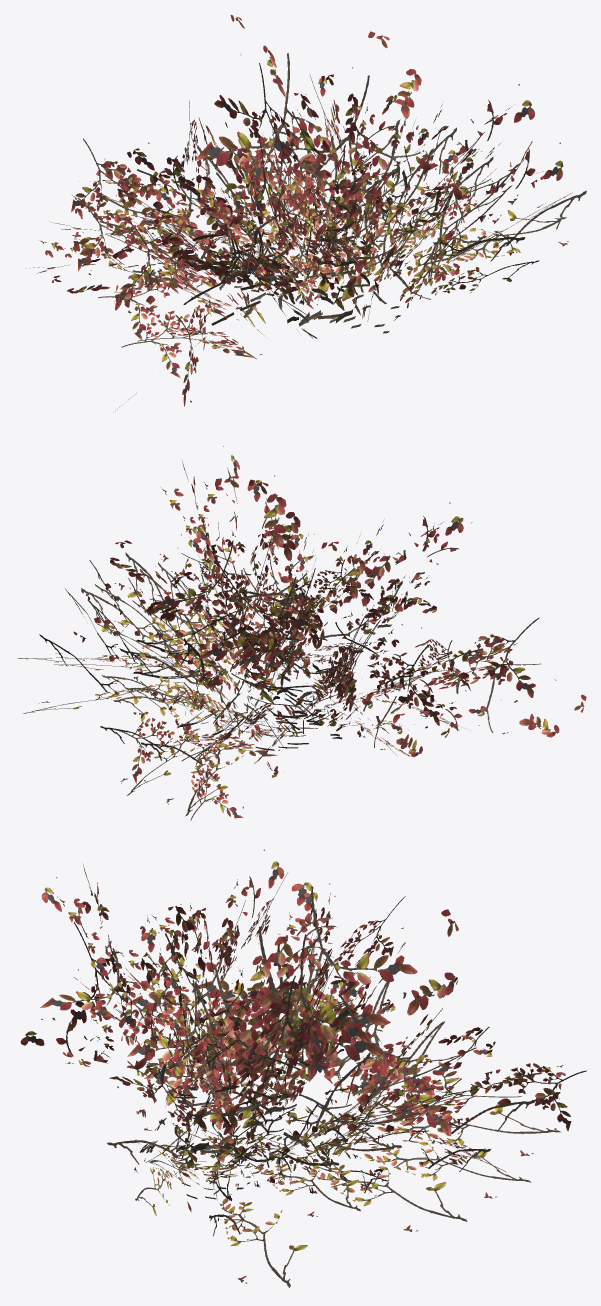
Rendered from red_bush.glb.
The picture shows the model from 3 angles, top to bottom: view 1: azimuth 30°, elevation 25°; view 2: azimuth 150°, elevation 25°; view 3: azimuth 270°, elevation 25°; orthographic projection. The views are drawn at different scales.
Visible parts, largest first — view 1: Red Bush; view 2: Red Bush; view 3: Red Bush.
Boxes of the visible parts, x1,y1,x2,y2 form: Red Bush: [25, 15, 586, 412]; Red Bush: [17, 446, 586, 820]; Red Bush: [20, 849, 586, 1287].
Bounding box in the file's own units: 7.1 × 3.59 × 5.81.
1 material, 1 textured.
